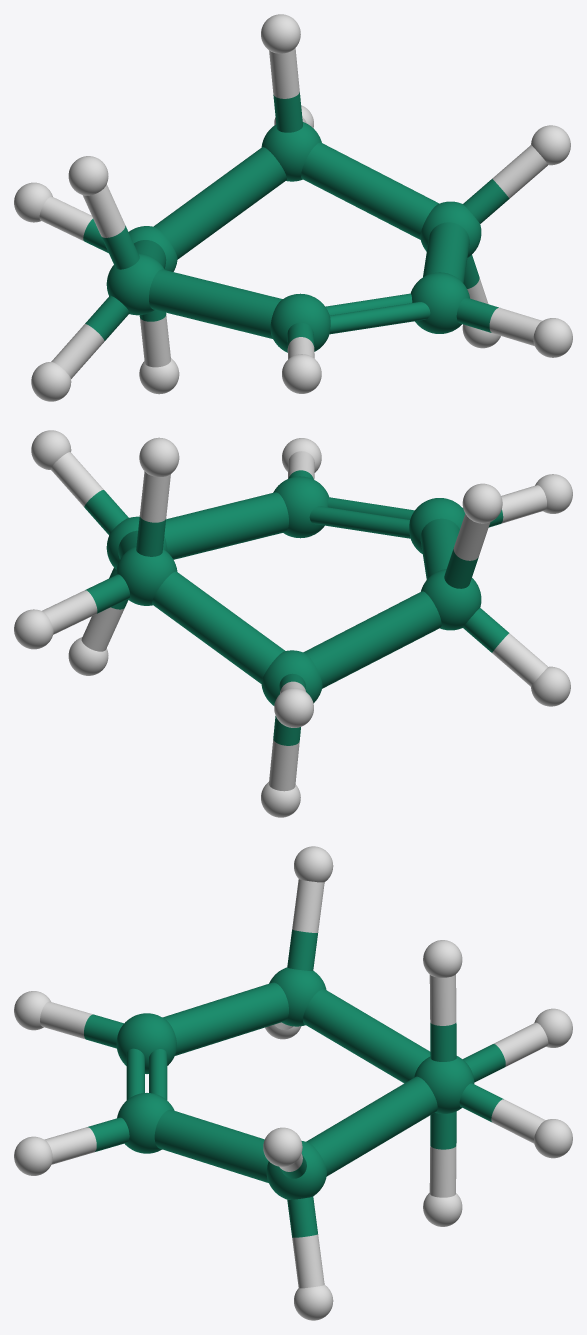
Rendered from CYCLOHEXENE.MOL2.glb.
The picture shows the model from 3 angles, top to bottom: view 1: azimuth 30°, elevation 25°; view 2: azimuth 150°, elevation 25°; view 3: azimuth 270°, elevation 25°; orthographic projection.
Bounding box in the file's own units: 5.09 × 3.16 × 4.68.
